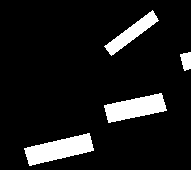parkingspot: (104, 10, 158, 55), (24, 133, 93, 165), (104, 93, 166, 122), (180, 52, 191, 70)
